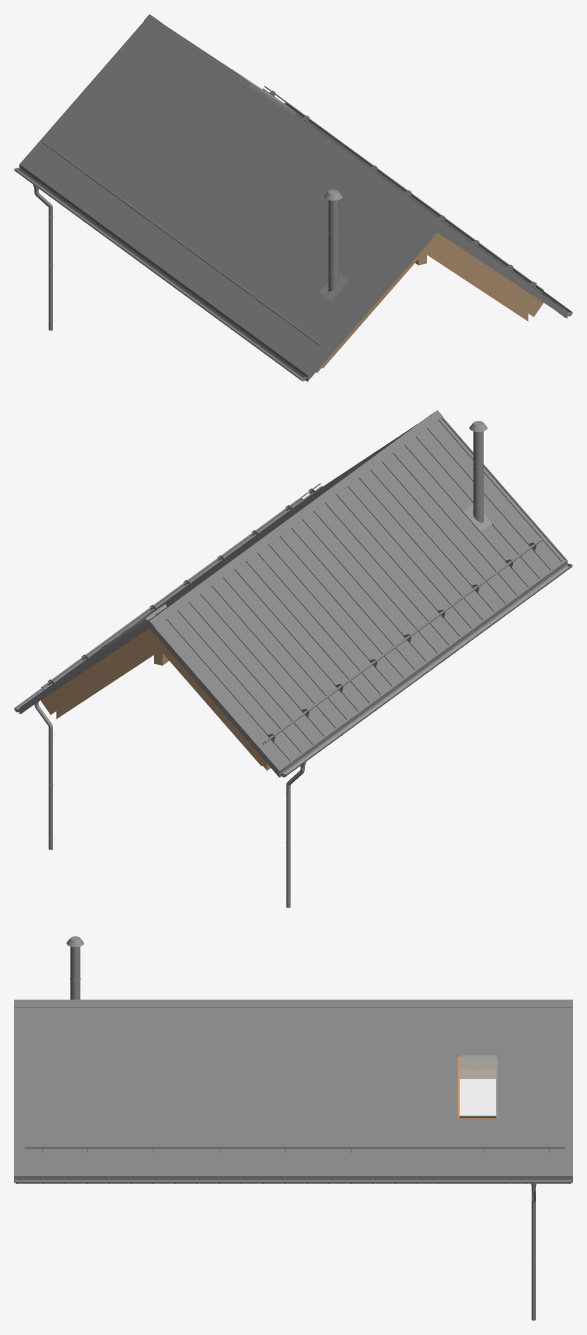
File: Light_Roof.glb
The picture shows the model from 3 angles, top to bottom: view 1: azimuth 30°, elevation 25°; view 2: azimuth 150°, elevation 25°; view 3: azimuth 270°, elevation 25°; orthographic projection. The views are drawn at different scales.
Parts seen in each view (by area): view 1: Roof.001, Alumininum_1_Roof.001, Interior_Wood_Roof.001; view 2: Roof.001, Alumininum_1_Roof.001, Interior_Wood_Roof.001; view 3: Roof.001, Alumininum_1_Roof.001, Glass_Roof.001, Interior_Wood_Roof.001.
Part boxes in pixels (left/top/right/bottom): Roof.001: left=19, top=14, right=567, bottom=381; Alumininum_1_Roof.001: left=14, top=69, right=572, bottom=381; Interior_Wood_Roof.001: left=316, top=232, right=543, bottom=372; Roof.001: left=19, top=410, right=567, bottom=777; Alumininum_1_Roof.001: left=14, top=421, right=572, bottom=907; Interior_Wood_Roof.001: left=41, top=628, right=270, bottom=770; Roof.001: left=14, top=999, right=572, bottom=1182; Alumininum_1_Roof.001: left=15, top=936, right=571, bottom=1320; Glass_Roof.001: left=459, top=1056, right=495, bottom=1115; Interior_Wood_Roof.001: left=458, top=1056, right=497, bottom=1118.
Size of the model in its own units: 2.54 by 2.66 by 4.64.
Materials: 5 (1 with a texture image).
